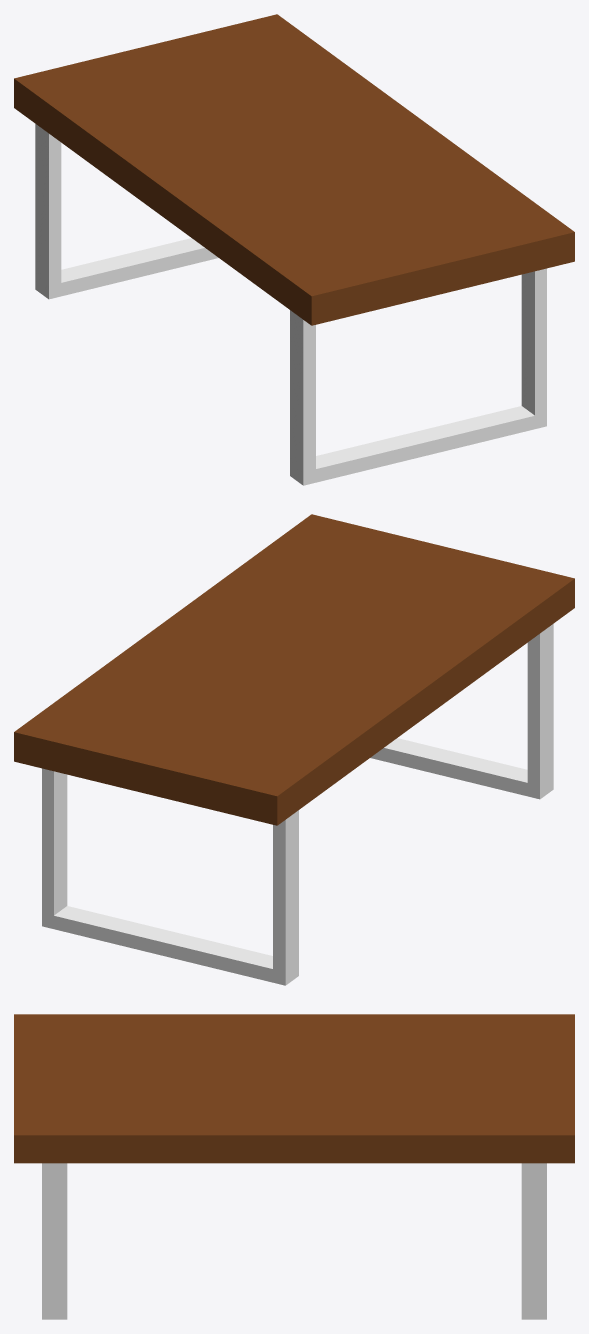
The model's file is Table.fbx.
3 views of the same model, one above another, from view 1: azimuth 30°, elevation 25°; view 2: azimuth 150°, elevation 25°; view 3: azimuth 270°, elevation 25° (orthographic). The views are drawn at different scales.
Visible parts, largest first — view 1: Cube.002; view 2: Cube.002; view 3: Cube.002.
Boxes of the visible parts, <box> form: Cube.002: <box>14,14,574,485</box>; Cube.002: <box>14,514,574,985</box>; Cube.002: <box>14,1014,574,1319</box>.
Size of the model in its own units: 407 by 298 by 797.
